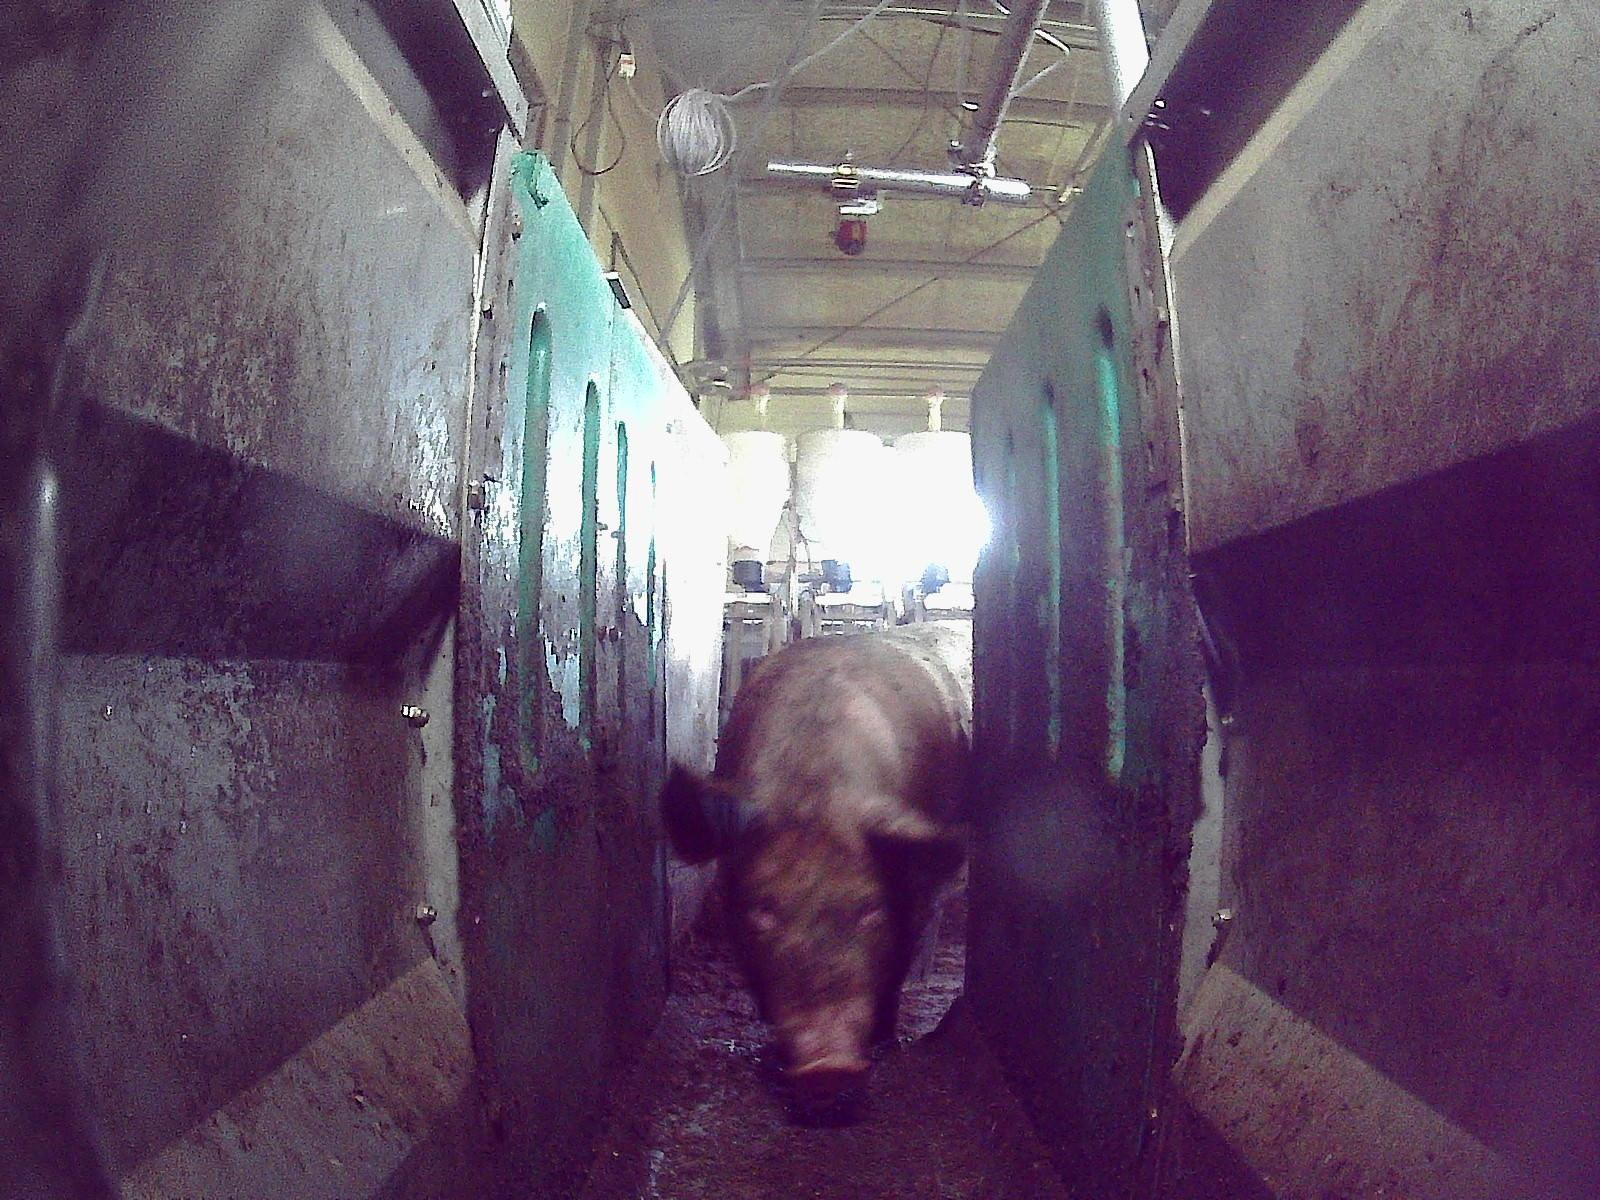Face: (722, 812, 902, 1097)
